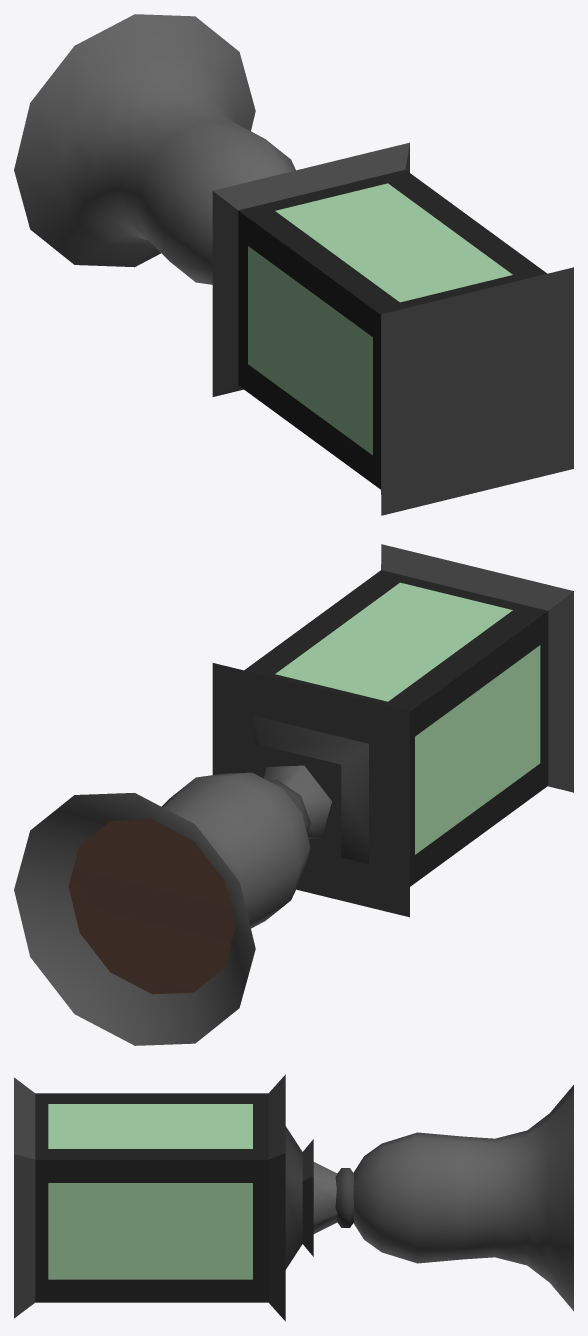
Rendered from water-cooler.glb.
The picture shows the model from 3 angles, top to bottom: view 1: azimuth 30°, elevation 25°; view 2: azimuth 150°, elevation 25°; view 3: azimuth 270°, elevation 25°; orthographic projection. The views are drawn at different scales.
Visible parts, largest first — view 1: prop_006; view 2: prop_006; view 3: prop_006.
Part boxes in pixels (bbox=[...]): prop_006: bbox=[14, 14, 573, 515]; prop_006: bbox=[14, 544, 573, 1045]; prop_006: bbox=[14, 1074, 573, 1321].
Size of the model in its own units: 0.5082 by 0.5082 by 1.25.
1 material, 1 textured.
